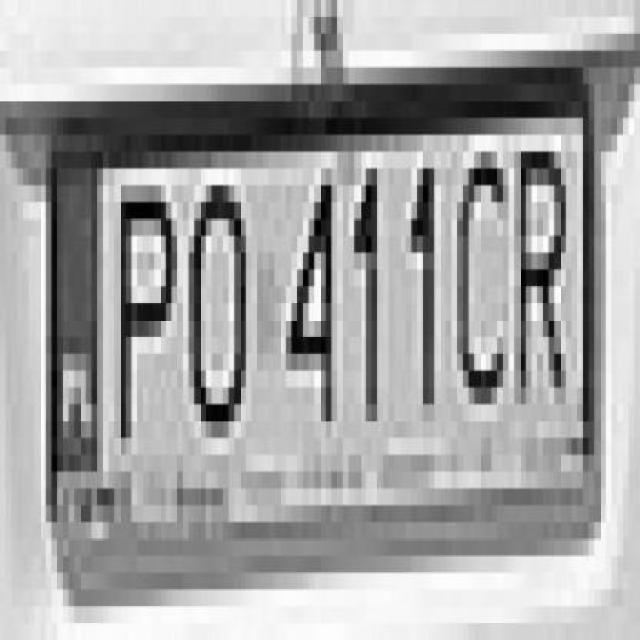licenseplate: (34, 31, 603, 595)
